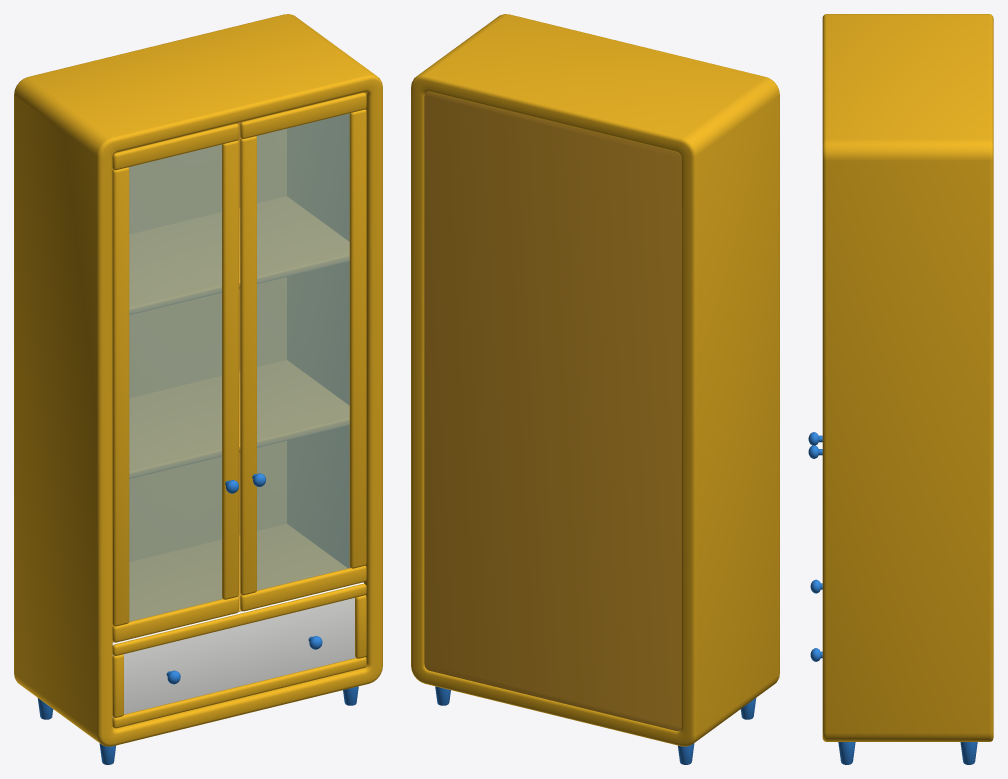
File: armario_vitrine_amarelo.glb
3 renders of one model, left to right at view 1: azimuth 30°, elevation 25°; view 2: azimuth 150°, elevation 25°; view 3: azimuth 270°, elevation 25°, orthographic.
Visible parts, largest first — view 1: armario_vitrine_amarelo, porta_2, porta_1, gaveta_1; view 2: armario_vitrine_amarelo; view 3: armario_vitrine_amarelo.
Part boxes in pixels (<box>): armario_vitrine_amarelo: <box>14,14,382,764</box>; porta_2: <box>240,92,366,611</box>; porta_1: <box>112,123,238,642</box>; gaveta_1: <box>112,582,366,728</box>; armario_vitrine_amarelo: <box>411,14,779,764</box>; armario_vitrine_amarelo: <box>822,14,993,764</box>.
Bounding box in the file's own units: 0.8 × 1.7 × 0.4546.
2 materials, 1 textured.
